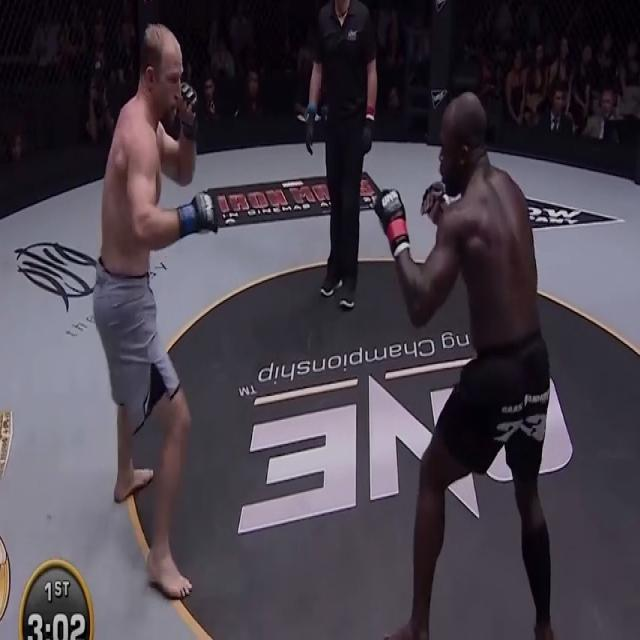fight: (373, 87, 556, 640), (86, 17, 220, 606)
non-fight: (299, 0, 382, 318)
